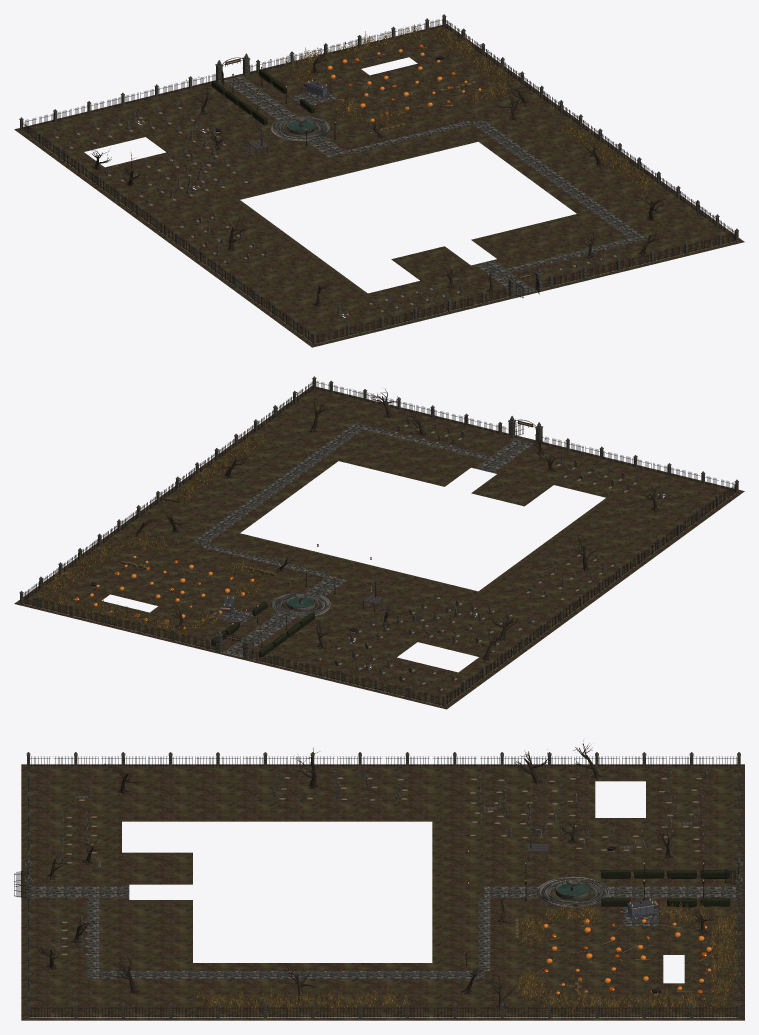
The model's file is grounds_v15.glb.
The picture shows the model from 3 angles, top to bottom: view 1: azimuth 30°, elevation 25°; view 2: azimuth 150°, elevation 25°; view 3: azimuth 270°, elevation 25°; orthographic projection. The views are drawn at different scales.
Visible parts, largest first — view 1: grounds; view 2: grounds; view 3: grounds.
Part boxes in pixels (left/top/right/bottom): grounds: left=14, top=14, right=744, bottom=347; grounds: left=14, top=376, right=744, bottom=709; grounds: left=14, top=741, right=744, bottom=1020.
Bounding box in the file's own units: 102 × 8.37 × 123.
30 materials, 22 textured.
